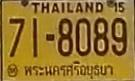0: (75, 17, 90, 55)
1: (32, 18, 37, 57)
7: (8, 18, 24, 56)
8: (93, 17, 108, 55), (57, 18, 72, 55)
9: (111, 17, 126, 55)
AYA: (23, 61, 118, 81)
